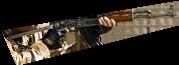gun: (1, 0, 179, 65)
